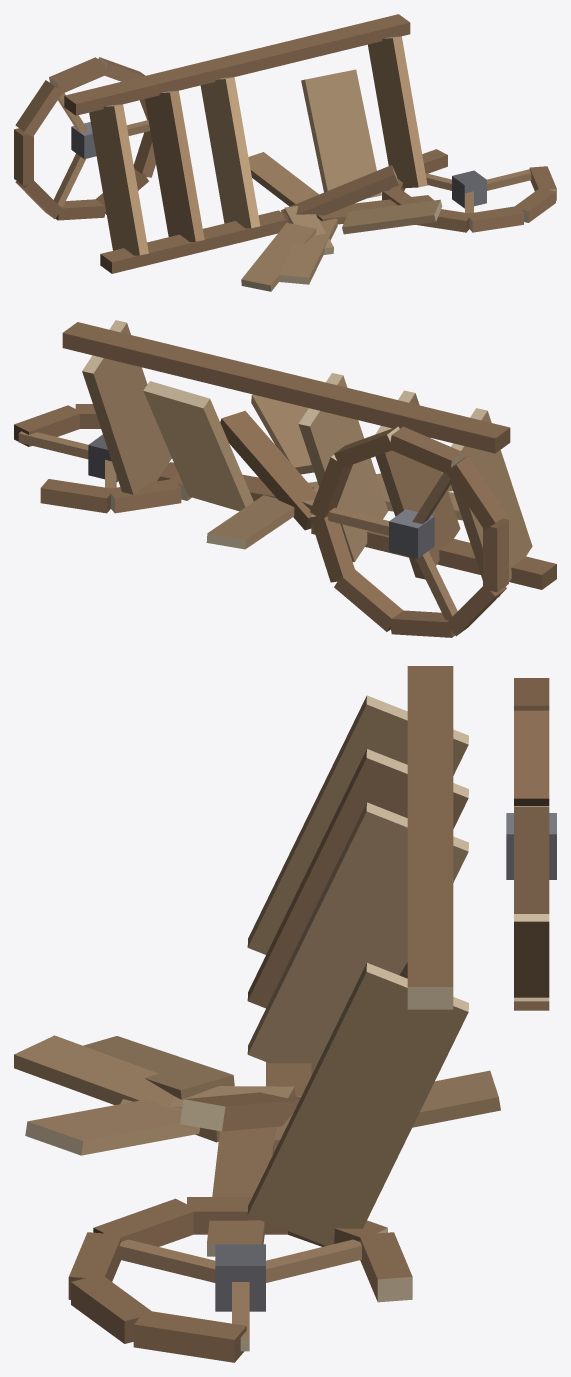
Rendered from wagon_wreck.glb.
The picture shows the model from 3 angles, top to bottom: view 1: azimuth 30°, elevation 25°; view 2: azimuth 150°, elevation 25°; view 3: azimuth 270°, elevation 25°; orthographic projection. The views are drawn at different scales.
Parts seen in each view (by area): view 1: wagon_wreck; view 2: wagon_wreck; view 3: wagon_wreck.
Boxes of the visible parts, box(x1,y1,x2,y2) form: wagon_wreck: box(14, 14, 556, 291); wagon_wreck: box(14, 320, 556, 637); wagon_wreck: box(14, 666, 556, 1362).
Bounding box in the file's own units: 4.07 × 1.36 × 2.15.
